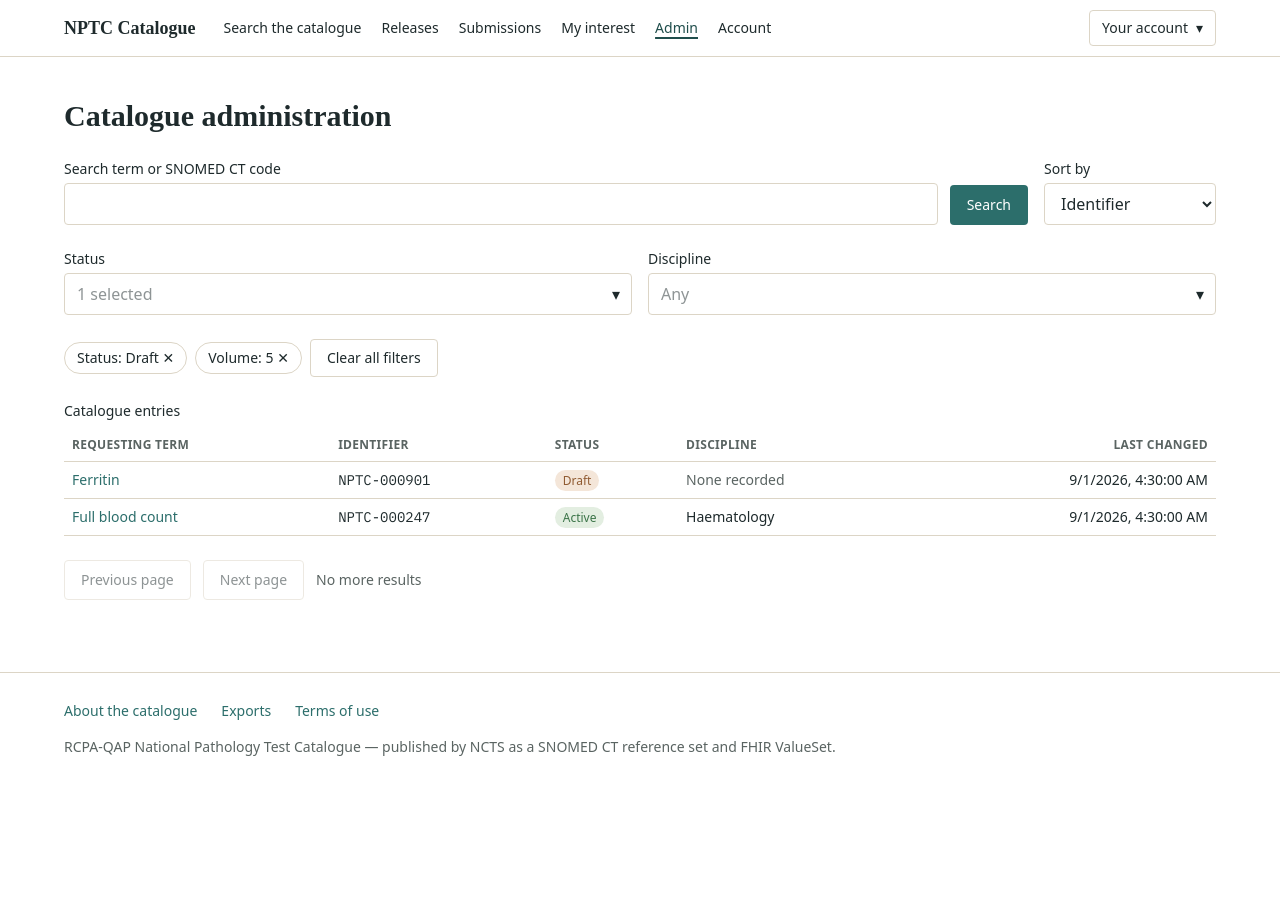
AdminCatalogueListPage › active filters escape hatch › clears every active filter at once via Clear all filters
Expected: the link "Ferritin" is shown, [72,470,120,490]
Click the button "Clear all filters".
click(374, 358)  # box [310,338,438,376]
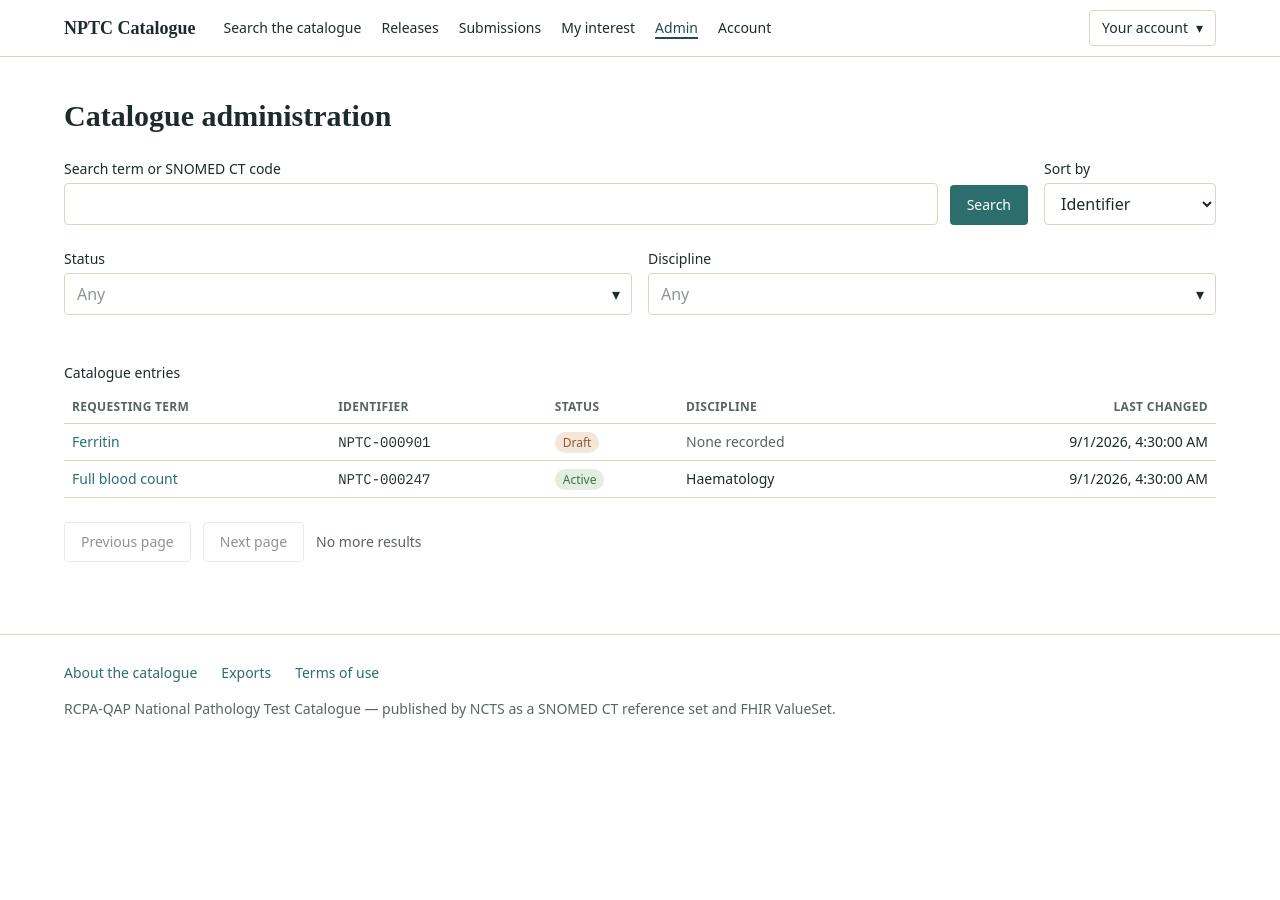
Result: the button "Clear all filters" is gone
